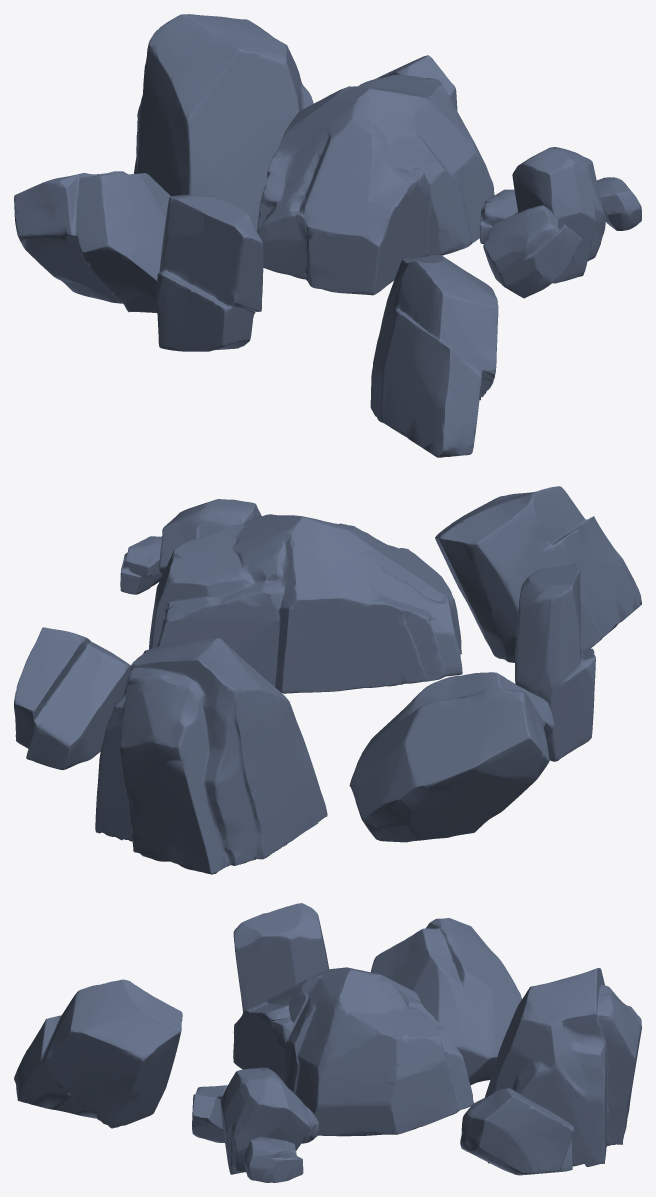
3 renders of one model, top to bottom at view 1: azimuth 30°, elevation 25°; view 2: azimuth 150°, elevation 25°; view 3: azimuth 270°, elevation 25°, orthographic. The views are drawn at different scales.
Visible parts, largest first — view 1: SM_GF_Cliff_Bottom_02_LOD0; view 2: SM_GF_Cliff_Bottom_02_LOD0; view 3: SM_GF_Cliff_Bottom_02_LOD0.
Part boxes in pixels (<box>): SM_GF_Cliff_Bottom_02_LOD0: <box>14,14,641,457</box>; SM_GF_Cliff_Bottom_02_LOD0: <box>14,486,641,874</box>; SM_GF_Cliff_Bottom_02_LOD0: <box>14,903,641,1182</box>.
Bounding box in the file's own units: 15.47 × 6.02 × 19.32.
